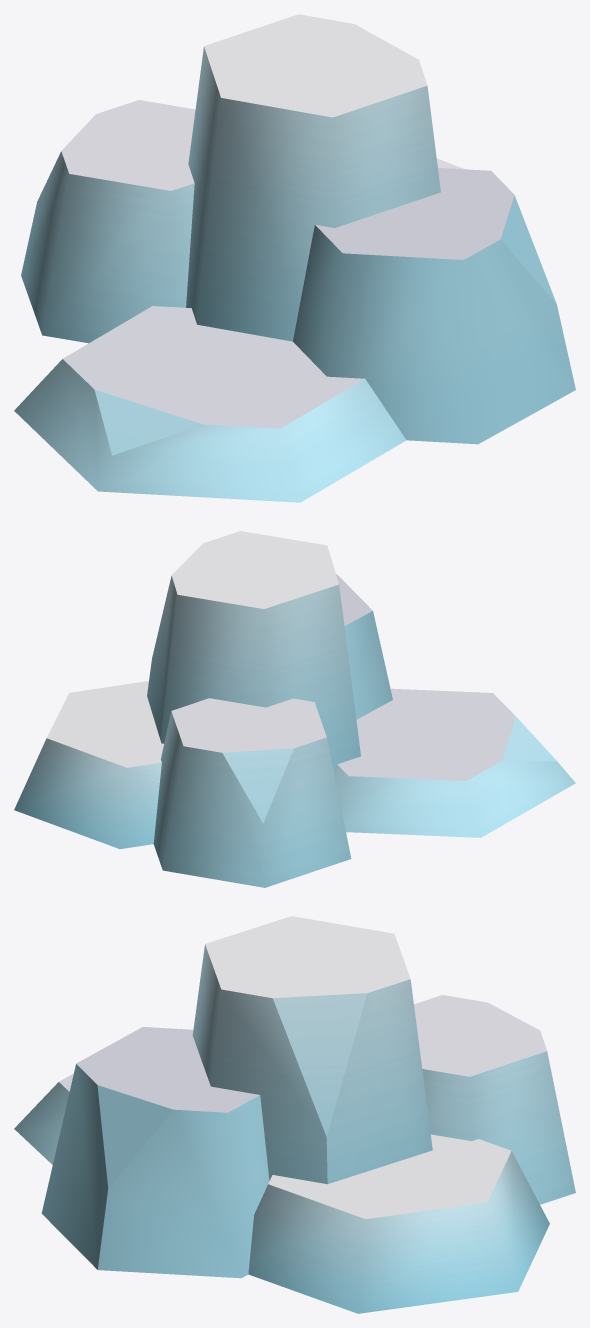
Rendered from snow-detail-rocks-large.fbx.
The picture shows the model from 3 angles, top to bottom: view 1: azimuth 30°, elevation 25°; view 2: azimuth 150°, elevation 25°; view 3: azimuth 270°, elevation 25°; orthographic projection. The views are drawn at different scales.
Parts seen in each view (by area): view 1: snow-detail-rocks-large; view 2: snow-detail-rocks-large; view 3: snow-detail-rocks-large.
Boxes of the visible parts, box(x1,y1,x2,y2) form: snow-detail-rocks-large: box(14, 14, 575, 502); snow-detail-rocks-large: box(14, 531, 575, 887); snow-detail-rocks-large: box(14, 916, 575, 1313).
Size of the model in its own units: 89.22 by 41.45 by 85.93.
